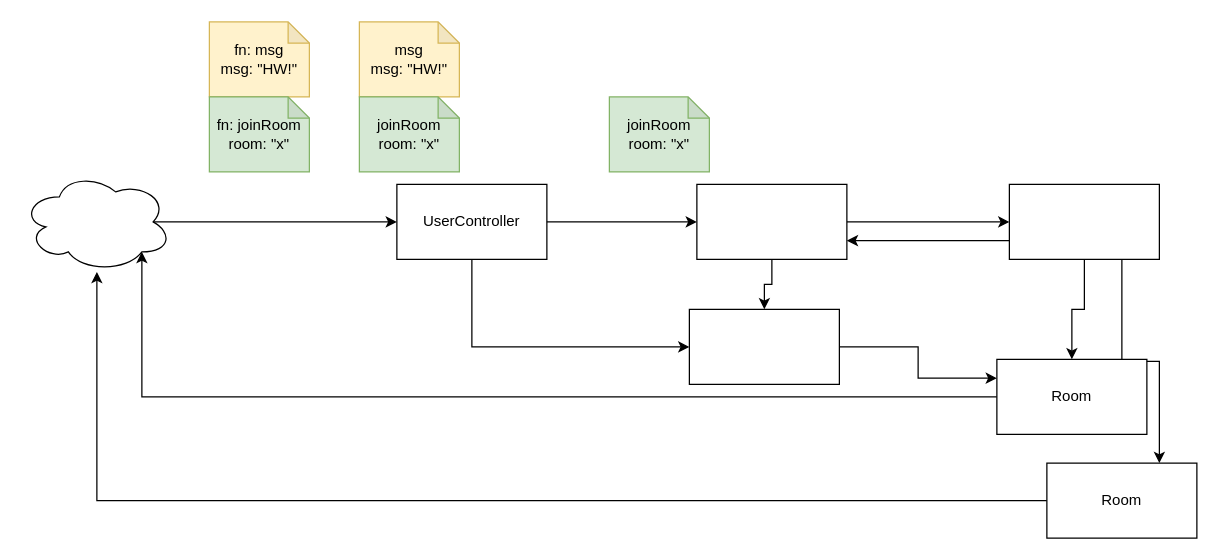
Some shapes in this 1219 by 560 pixel diagram are drawn without their labels. Here are the shapes that lost their labels. From the top down, the centre of each, then its label:
the point at 96,221: Internet
the point at 771,221: UserSession
the point at 1083,221: Landlord
the point at 763,346: MessageRouter
